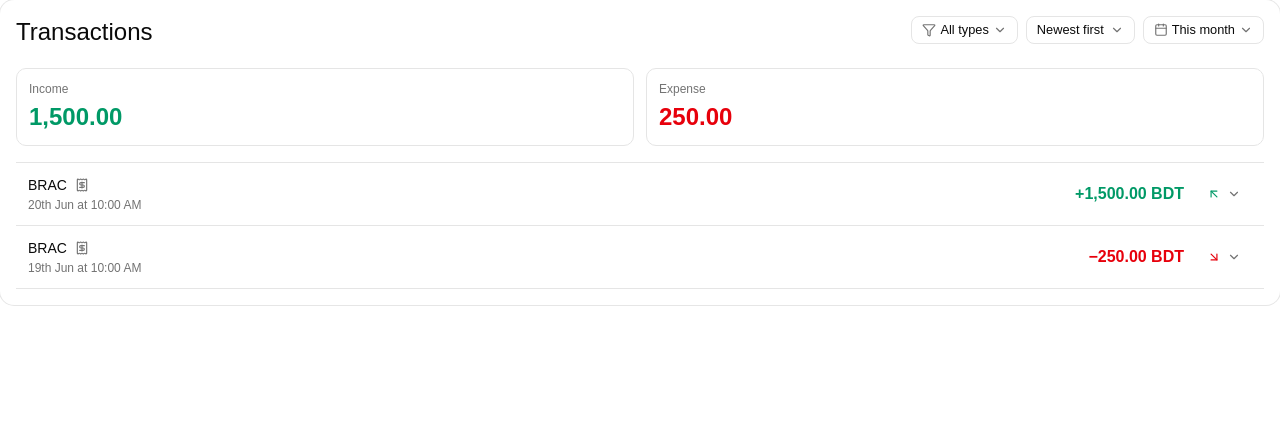
Scenario: TransactionsSection › expands two rows independently and shows each message
This screenshot has width=1280, height=439.
Expected: the text "+1,500.00 BDT" is shown, x1=1075 y1=182 x2=1184 y2=206
Click the button with aria-label "toggle message for brac": click(47, 185) x1=28 y1=177 x2=1252 y2=212
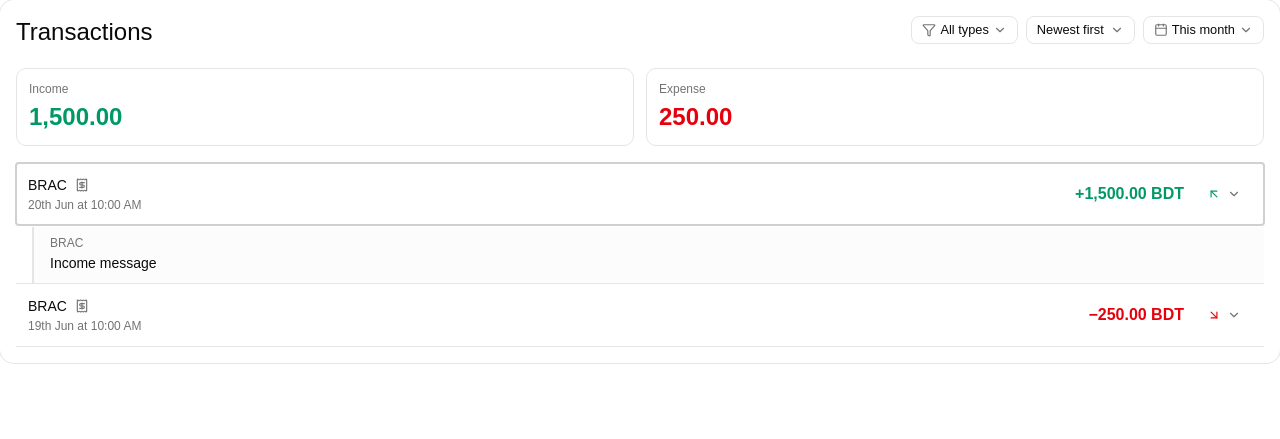
Click the button with aria-label "toggle message for brac": click(47, 306) x1=28 y1=298 x2=1252 y2=333
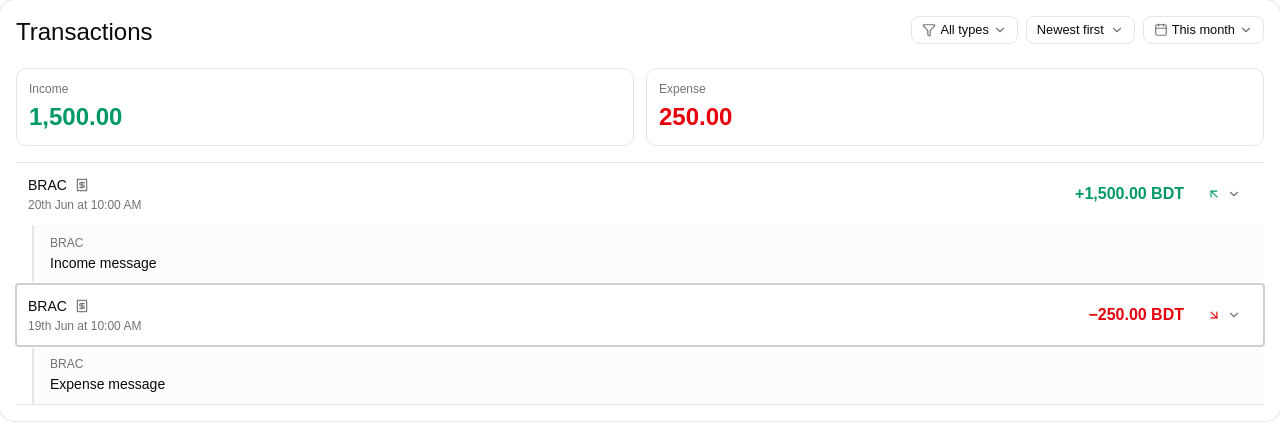
Expected: the text "Income message" is shown, x1=50 y1=255 x2=157 y2=271
Expected: the text "Expense message" is shown, x1=50 y1=376 x2=165 y2=392
